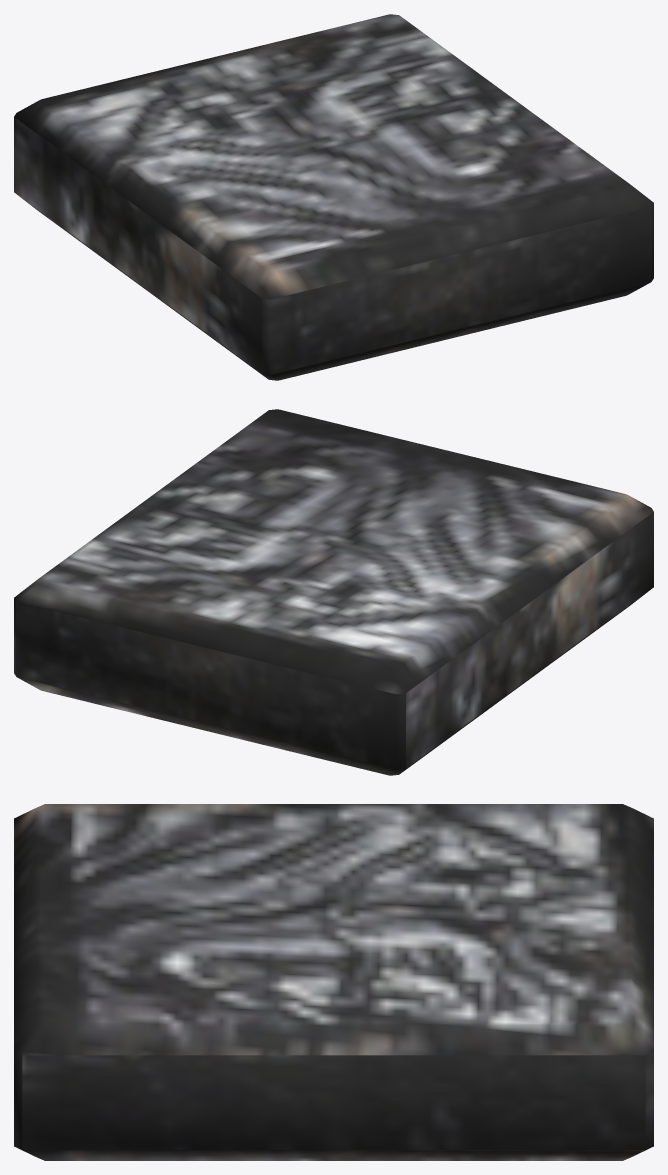
The model's file is cartel_coke_2.FBX.
The picture shows the model from 3 angles, top to bottom: view 1: azimuth 30°, elevation 25°; view 2: azimuth 150°, elevation 25°; view 3: azimuth 270°, elevation 25°; orthographic projection. The views are drawn at different scales.
Parts seen in each view (by area): view 1: cartel_coke_2; view 2: cartel_coke_2; view 3: cartel_coke_2.
Boxes of the visible parts, bbox=[...] form: cartel_coke_2: bbox=[14, 14, 653, 380]; cartel_coke_2: bbox=[14, 409, 653, 775]; cartel_coke_2: bbox=[14, 804, 653, 1160].
Bounding box in the file's own units: 36.15 × 9.54 × 40.71.
